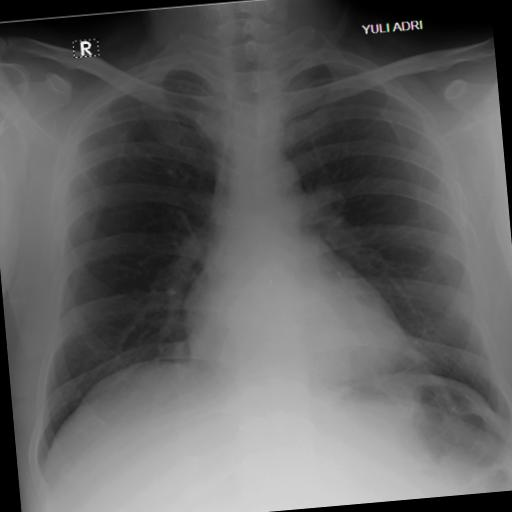normal: (0, 9, 512, 482)
